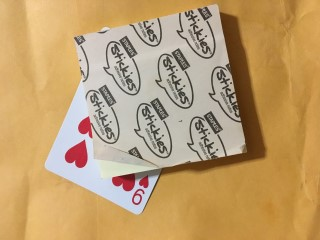NineOfHearts: (44, 79, 161, 214)
